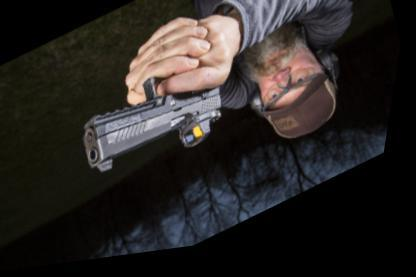pistol: (59, 37, 265, 208)
